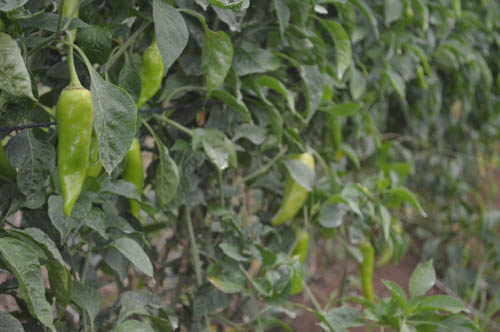ChiliPepper: (52, 91, 97, 213), (265, 155, 313, 227), (132, 48, 162, 109), (120, 136, 142, 215)
